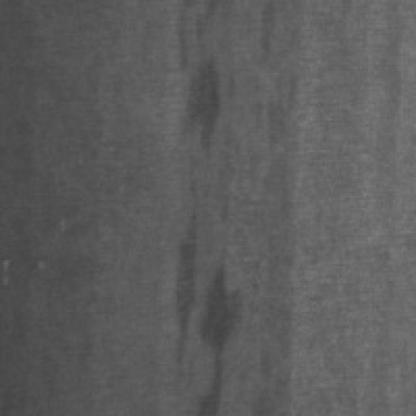inclusion: (168, 158, 240, 412), (162, 0, 223, 185)
